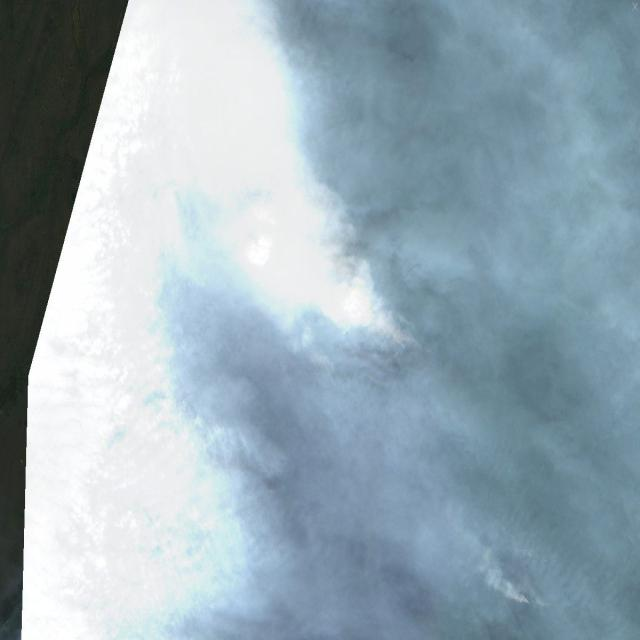fire: (26, 7, 556, 640)
